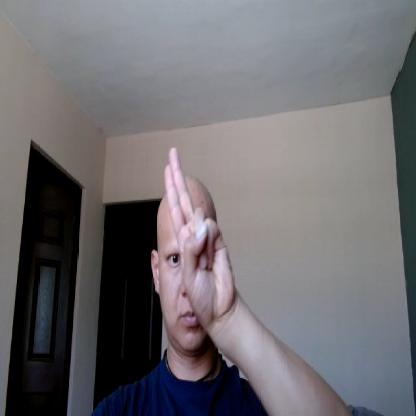U: (163, 145, 235, 326)
